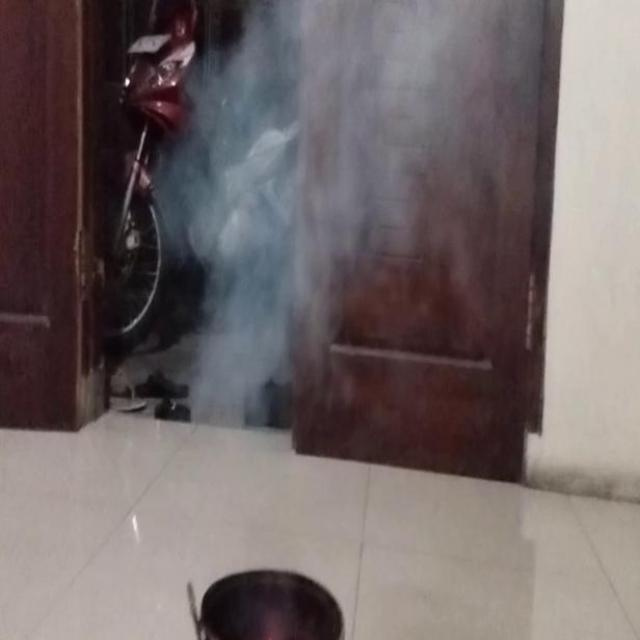fire: (197, 0, 508, 422)
